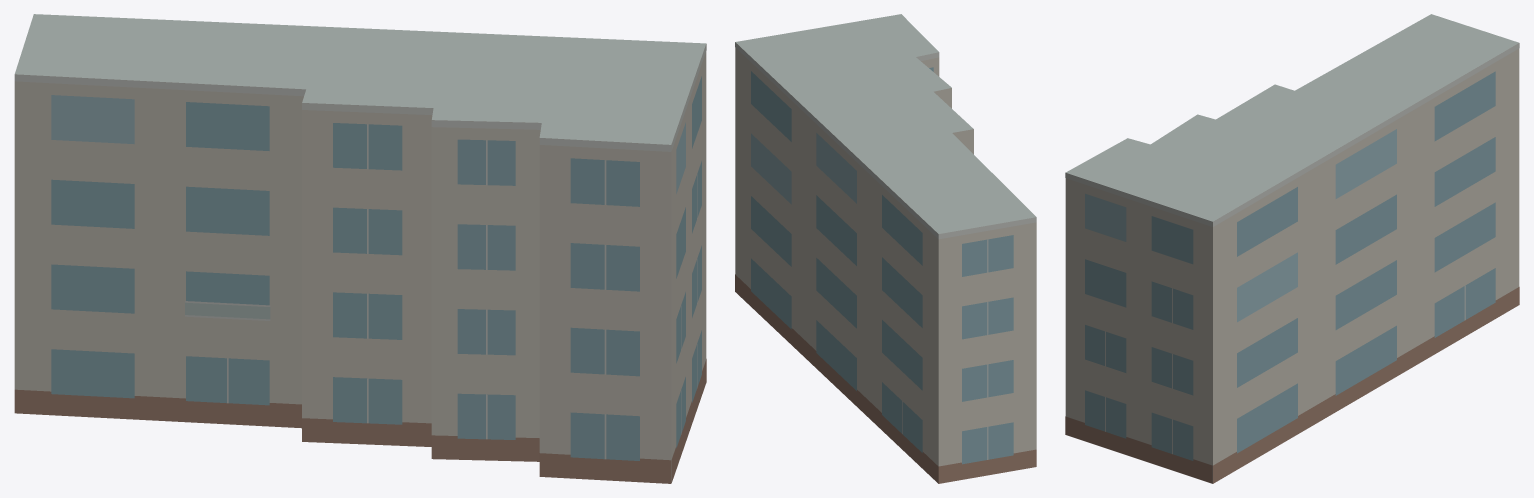
File: survey-upis-32929249.glb
The picture shows the model from 3 angles, left to right: view 1: azimuth 30°, elevation 25°; view 2: azimuth 150°, elevation 25°; view 3: azimuth 270°, elevation 25°; orthographic projection. The views are drawn at different scales.
Parts seen in each view (by area): view 1: survey-upis-32929249.tmp; view 2: survey-upis-32929249.tmp; view 3: survey-upis-32929249.tmp.
Boxes of the visible parts, box(x1,y1,x2,y2) form: survey-upis-32929249.tmp: box(14, 14, 706, 483); survey-upis-32929249.tmp: box(735, 14, 1036, 483); survey-upis-32929249.tmp: box(1065, 14, 1519, 483).
Size of the model in its own units: 19.89 by 11.7 by 18.37.
